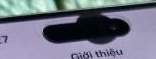screen_defect: (37, 6, 132, 59)
